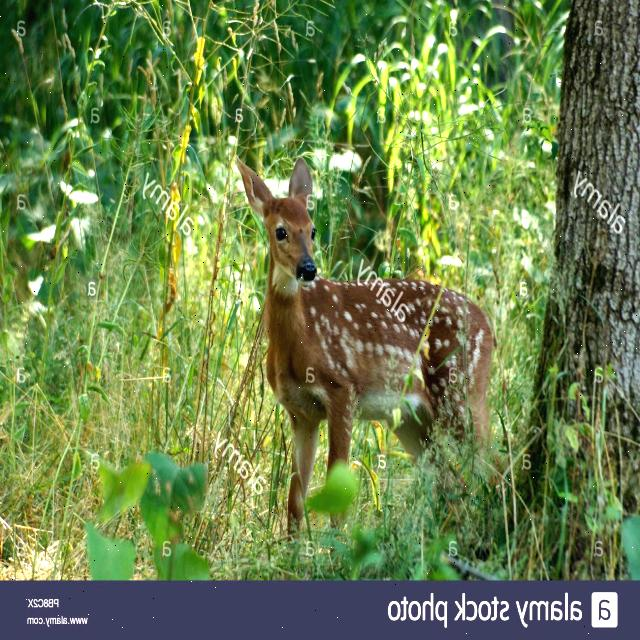deer: (224, 142, 499, 558)
